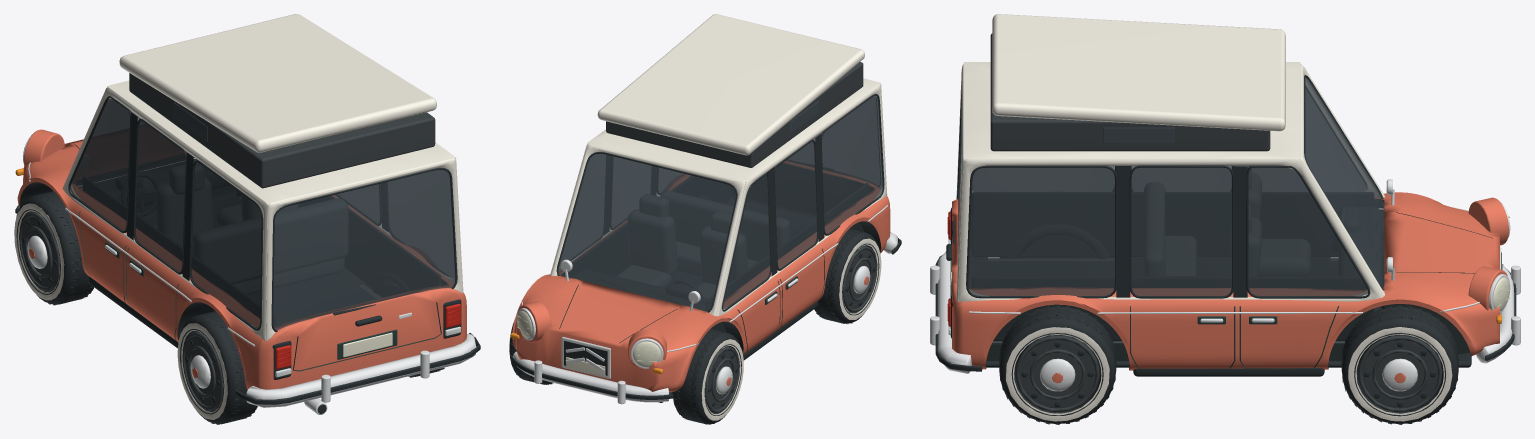
Rendered from camper_lod1.fbx.
3 renders of one model, left to right at view 1: azimuth 30°, elevation 25°; view 2: azimuth 150°, elevation 25°; view 3: azimuth 270°, elevation 25°, orthographic. The views are drawn at different scales.
Parts seen in each view (by area): view 1: Body, Wheel_FL_Mesh, Wheel_RL_Mesh, Wheel_RR_Mesh; view 2: Body, Wheel_FL_Mesh, Wheel_RL_Mesh; view 3: Body, Wheel_FR_Mesh, Wheel_RR_Mesh, Wheel_RL_Mesh.
Boxes of the visible parts, x1,y1,x2,y2 form: Body: (15,14,480,414); Wheel_FL_Mesh: (14,191,93,305); Wheel_RL_Mesh: (177,311,257,424); Wheel_RR_Mesh: (373,272,444,377); Body: (510,14,901,404); Wheel_FL_Mesh: (672,329,743,424); Wheel_RL_Mesh: (814,228,881,324); Body: (930,14,1520,376); Wheel_FR_Mesh: (1341,305,1458,424); Wheel_RR_Mesh: (999,305,1116,424); Wheel_RL_Mesh: (1000,224,1114,258).
Bounding box in the file's own units: 207 × 240 × 414.
